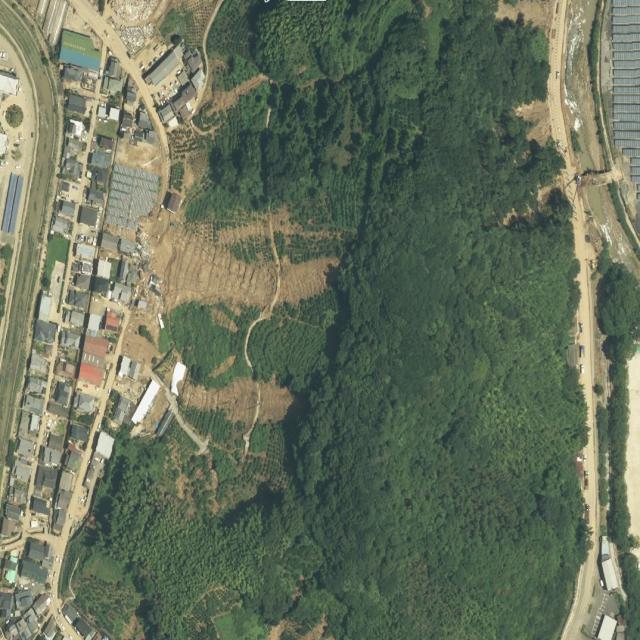landslide: (164, 209, 340, 441), (200, 73, 270, 132)
